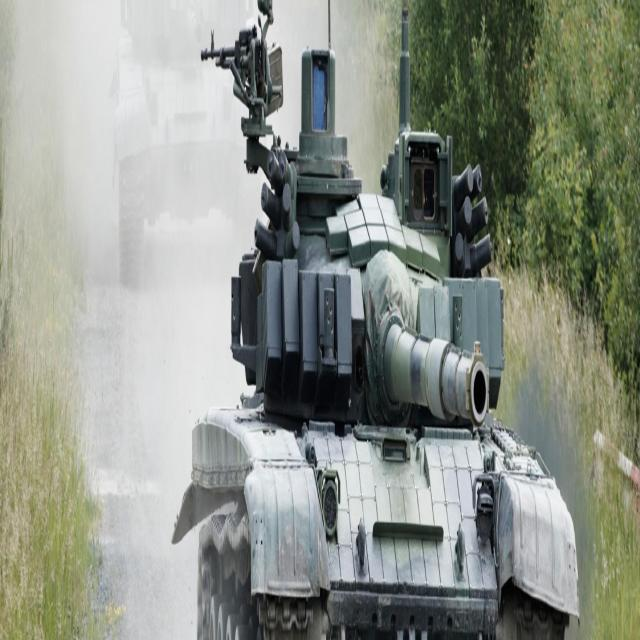Tanks: (175, 27, 587, 618)
